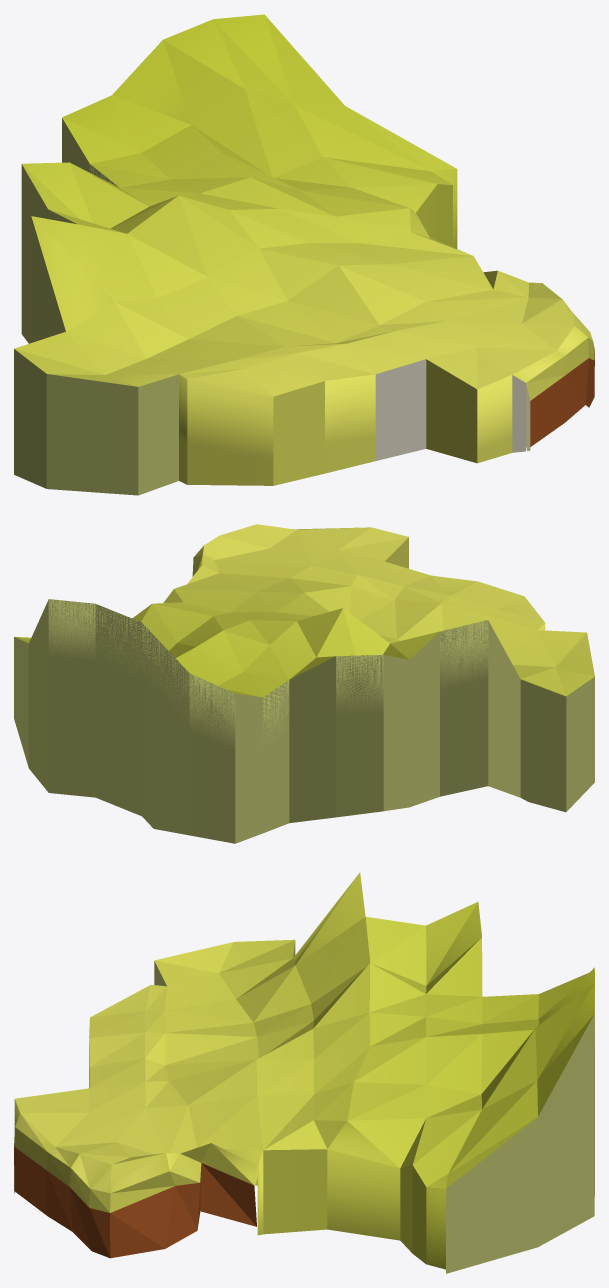
The model's file is asia_China.glb.
The picture shows the model from 3 angles, top to bottom: view 1: azimuth 30°, elevation 25°; view 2: azimuth 150°, elevation 25°; view 3: azimuth 270°, elevation 25°; orthographic projection. The views are drawn at different scales.
Parts seen in each view (by area): view 1: asia_China; view 2: asia_China; view 3: asia_China.
Part boxes in pixels (bbox=[...]): asia_China: bbox=[14, 14, 594, 495]; asia_China: bbox=[14, 524, 594, 843]; asia_China: bbox=[14, 872, 594, 1273].
Size of the model in its own units: 2.87 by 1.34 by 2.88.
2 materials, 1 textured.
